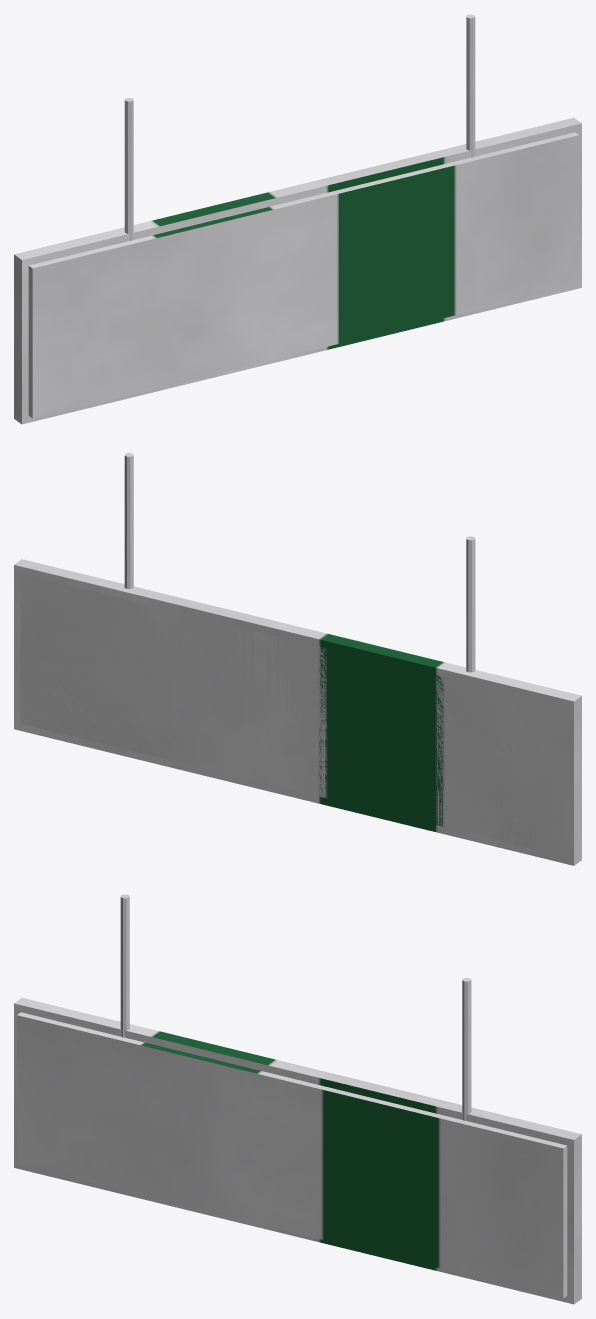
File: station_sign.glb
3 views of the same model, one above another, from view 1: azimuth 30°, elevation 25°; view 2: azimuth 150°, elevation 25°; view 3: azimuth 330°, elevation 25° (orthographic).
Parts seen in each view (by area): view 1: station_sign; view 2: station_sign; view 3: station_sign.
Part boxes in pixels (bbox=[...]): station_sign: bbox=[14, 14, 581, 424]; station_sign: bbox=[14, 453, 581, 865]; station_sign: bbox=[14, 894, 581, 1304].
Bounding box in the file's own units: 1.64 × 0.83 × 0.06.
1 material, 1 textured.
